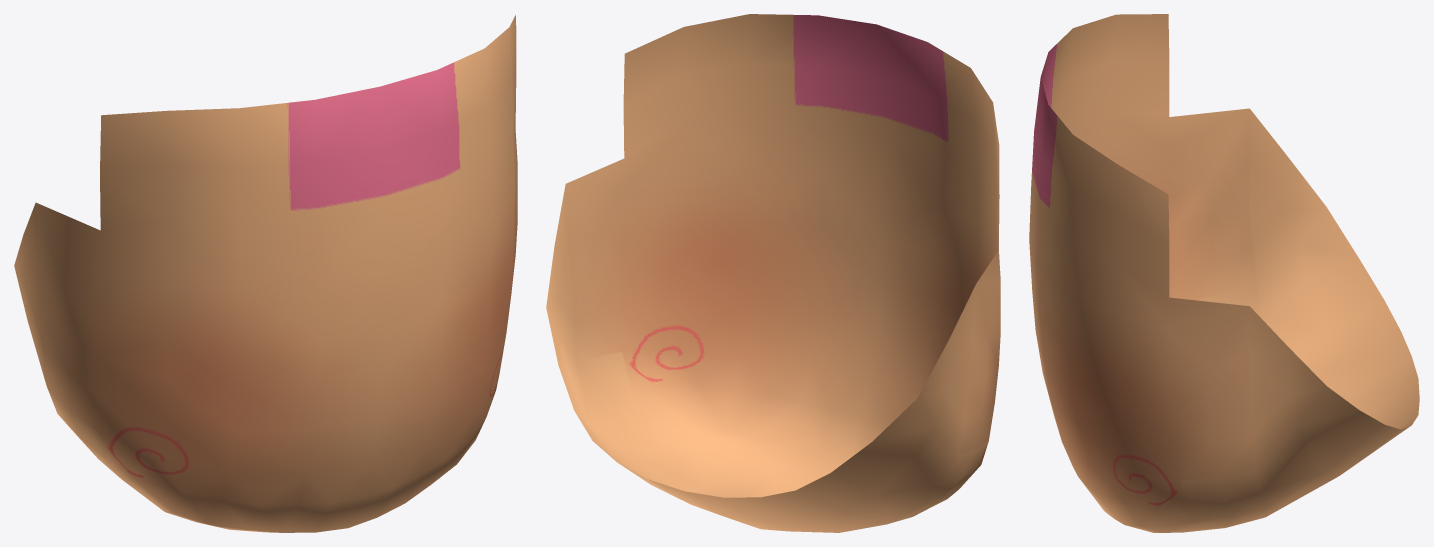
File: Faceline_7.glb
3 views of the same model, side by side, from view 1: azimuth 30°, elevation 25°; view 2: azimuth 150°, elevation 25°; view 3: azimuth 270°, elevation 25° (orthographic). The views are drawn at different scales.
Visible parts, largest first — view 1: Head07; view 2: Head07; view 3: Head07.
Part boxes in pixels (<box>): Head07: <box>14,15,517,532</box>; Head07: <box>546,14,1000,532</box>; Head07: <box>1029,14,1419,532</box>.
Size of the model in its own units: 52.6 by 53.42 by 43.9.
Materials: 1 (1 with a texture image).
